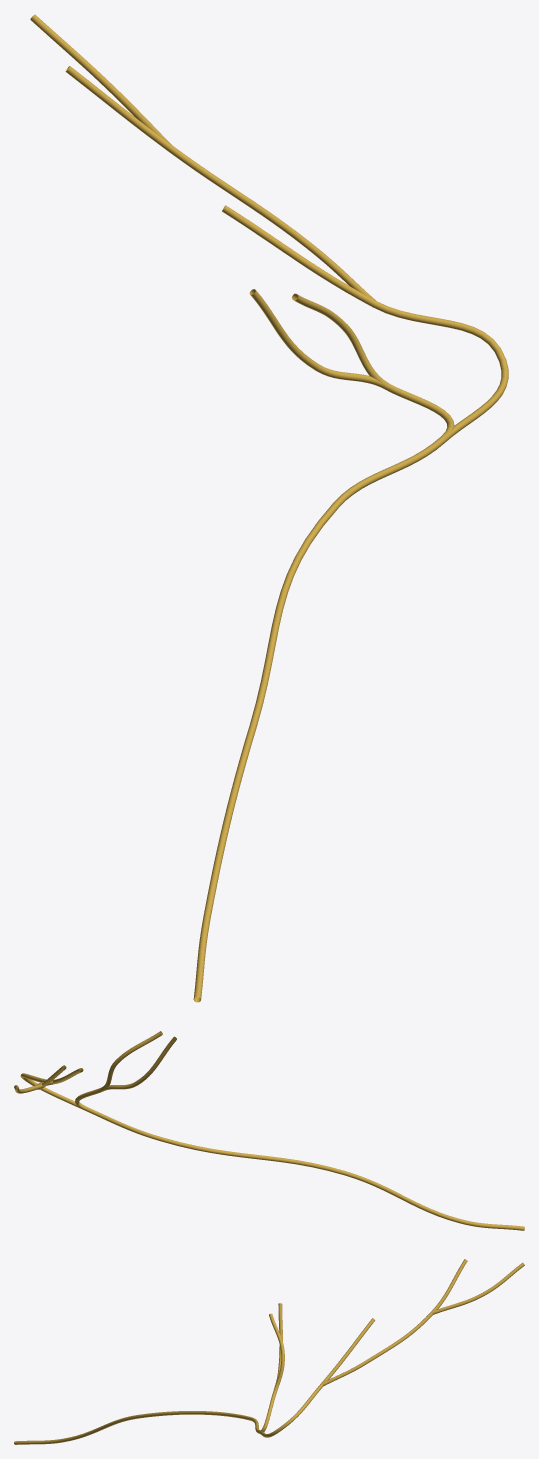
3 renders of one model, top to bottom at view 1: azimuth 30°, elevation 25°; view 2: azimuth 150°, elevation 25°; view 3: azimuth 270°, elevation 25°, orthographic. The views are drawn at different scales.
Visible parts, largest first — view 1: 左侧肩胛上神经; view 2: 左侧肩胛上神经; view 3: 左侧肩胛上神经.
Boxes of the visible parts, left/top/right/bottom form: 左侧肩胛上神经: left=30, top=14, right=508, bottom=1002; 左侧肩胛上神经: left=14, top=1031, right=524, bottom=1230; 左侧肩胛上神经: left=14, top=1259, right=524, bottom=1444.
Size of the model in its own units: 0.1318 by 0.1163 by 0.2024.
